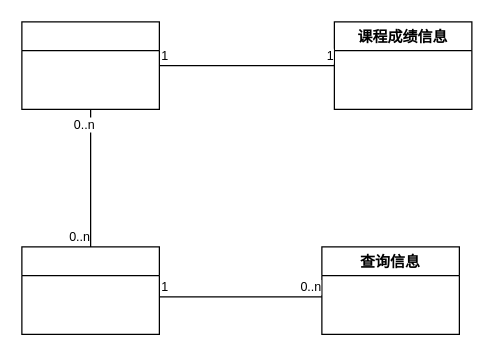
Some shapes in this 494 by 356 pixel diagram are drawn without their labels. The centre of each missing label's shape, as x and y in pixels:
学生信息: (90,290)
课程信息: (90,65)
